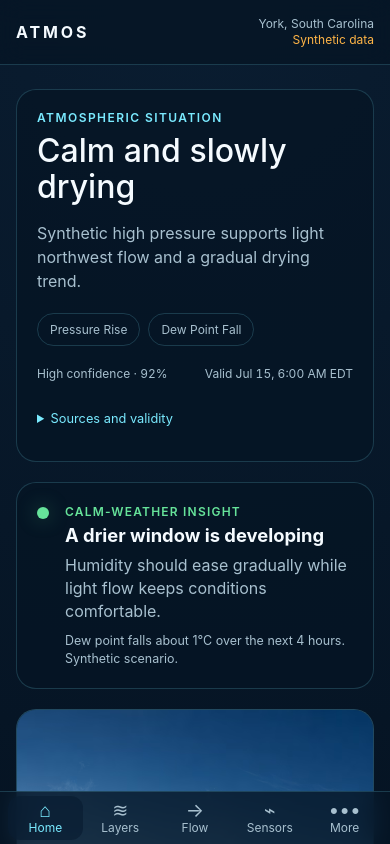
Scenario: Atmos app shell › navigates across the approved primary routes
Expected: the heading "Calm and slowly drying" is shown, [37,131,287,206]
Click the link "≋ Layers" at (120, 817), box [101,798,139,835]
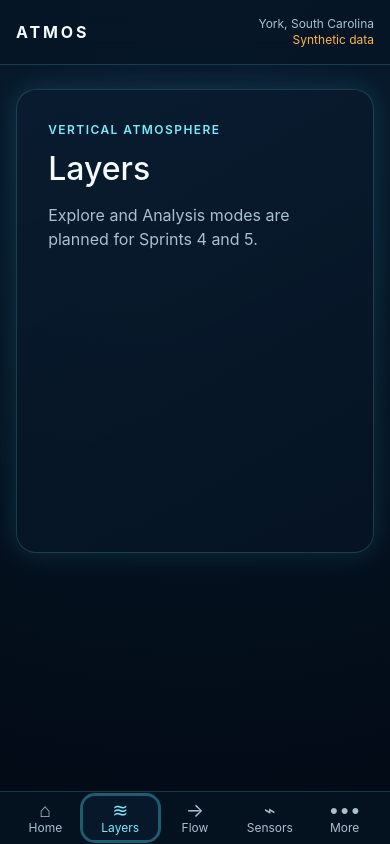
Expected: the heading "Layers" is shown, [48,149,150,188]
